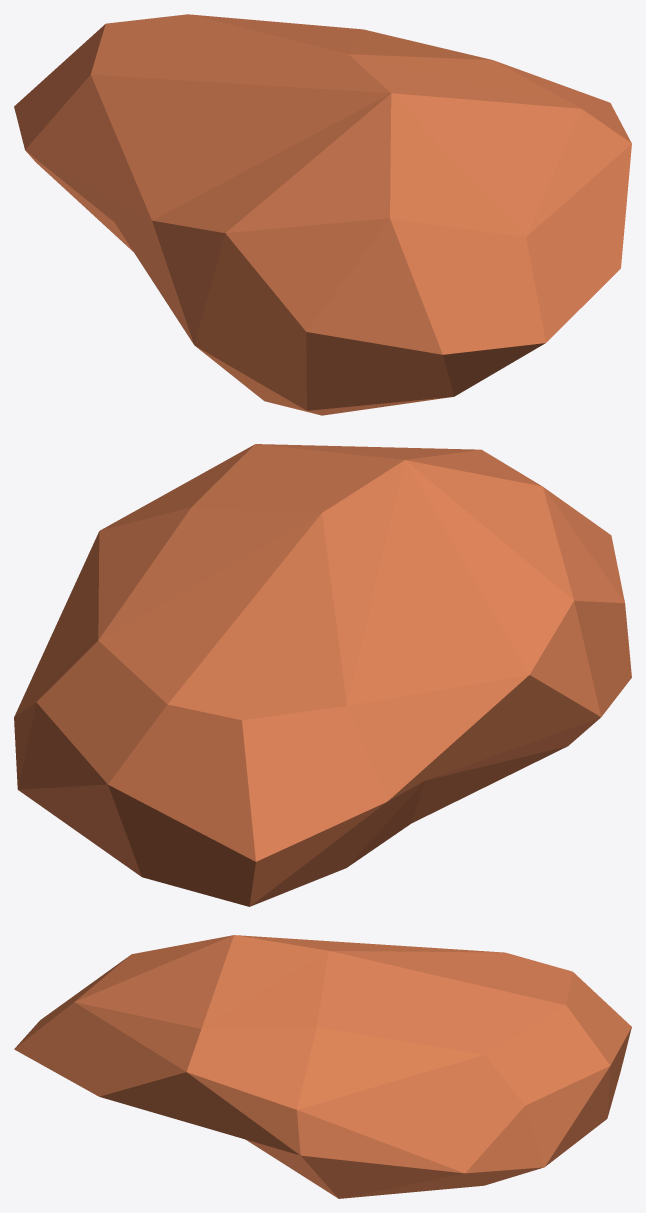
File: Large_FlatRock1.fbx
The picture shows the model from 3 angles, top to bottom: view 1: azimuth 30°, elevation 25°; view 2: azimuth 150°, elevation 25°; view 3: azimuth 270°, elevation 25°; orthographic projection. The views are drawn at different scales.
Parts seen in each view (by area): view 1: Large_FlatRock1; view 2: Large_FlatRock1; view 3: Large_FlatRock1.
Boxes of the visible parts, x1=… form: Large_FlatRock1: x1=14, y1=14, x2=631, y2=415; Large_FlatRock1: x1=14, y1=444, x2=631, y2=906; Large_FlatRock1: x1=14, y1=935, x2=631, y2=1198.
Size of the model in its own units: 5.76 by 3.47 by 8.58.
